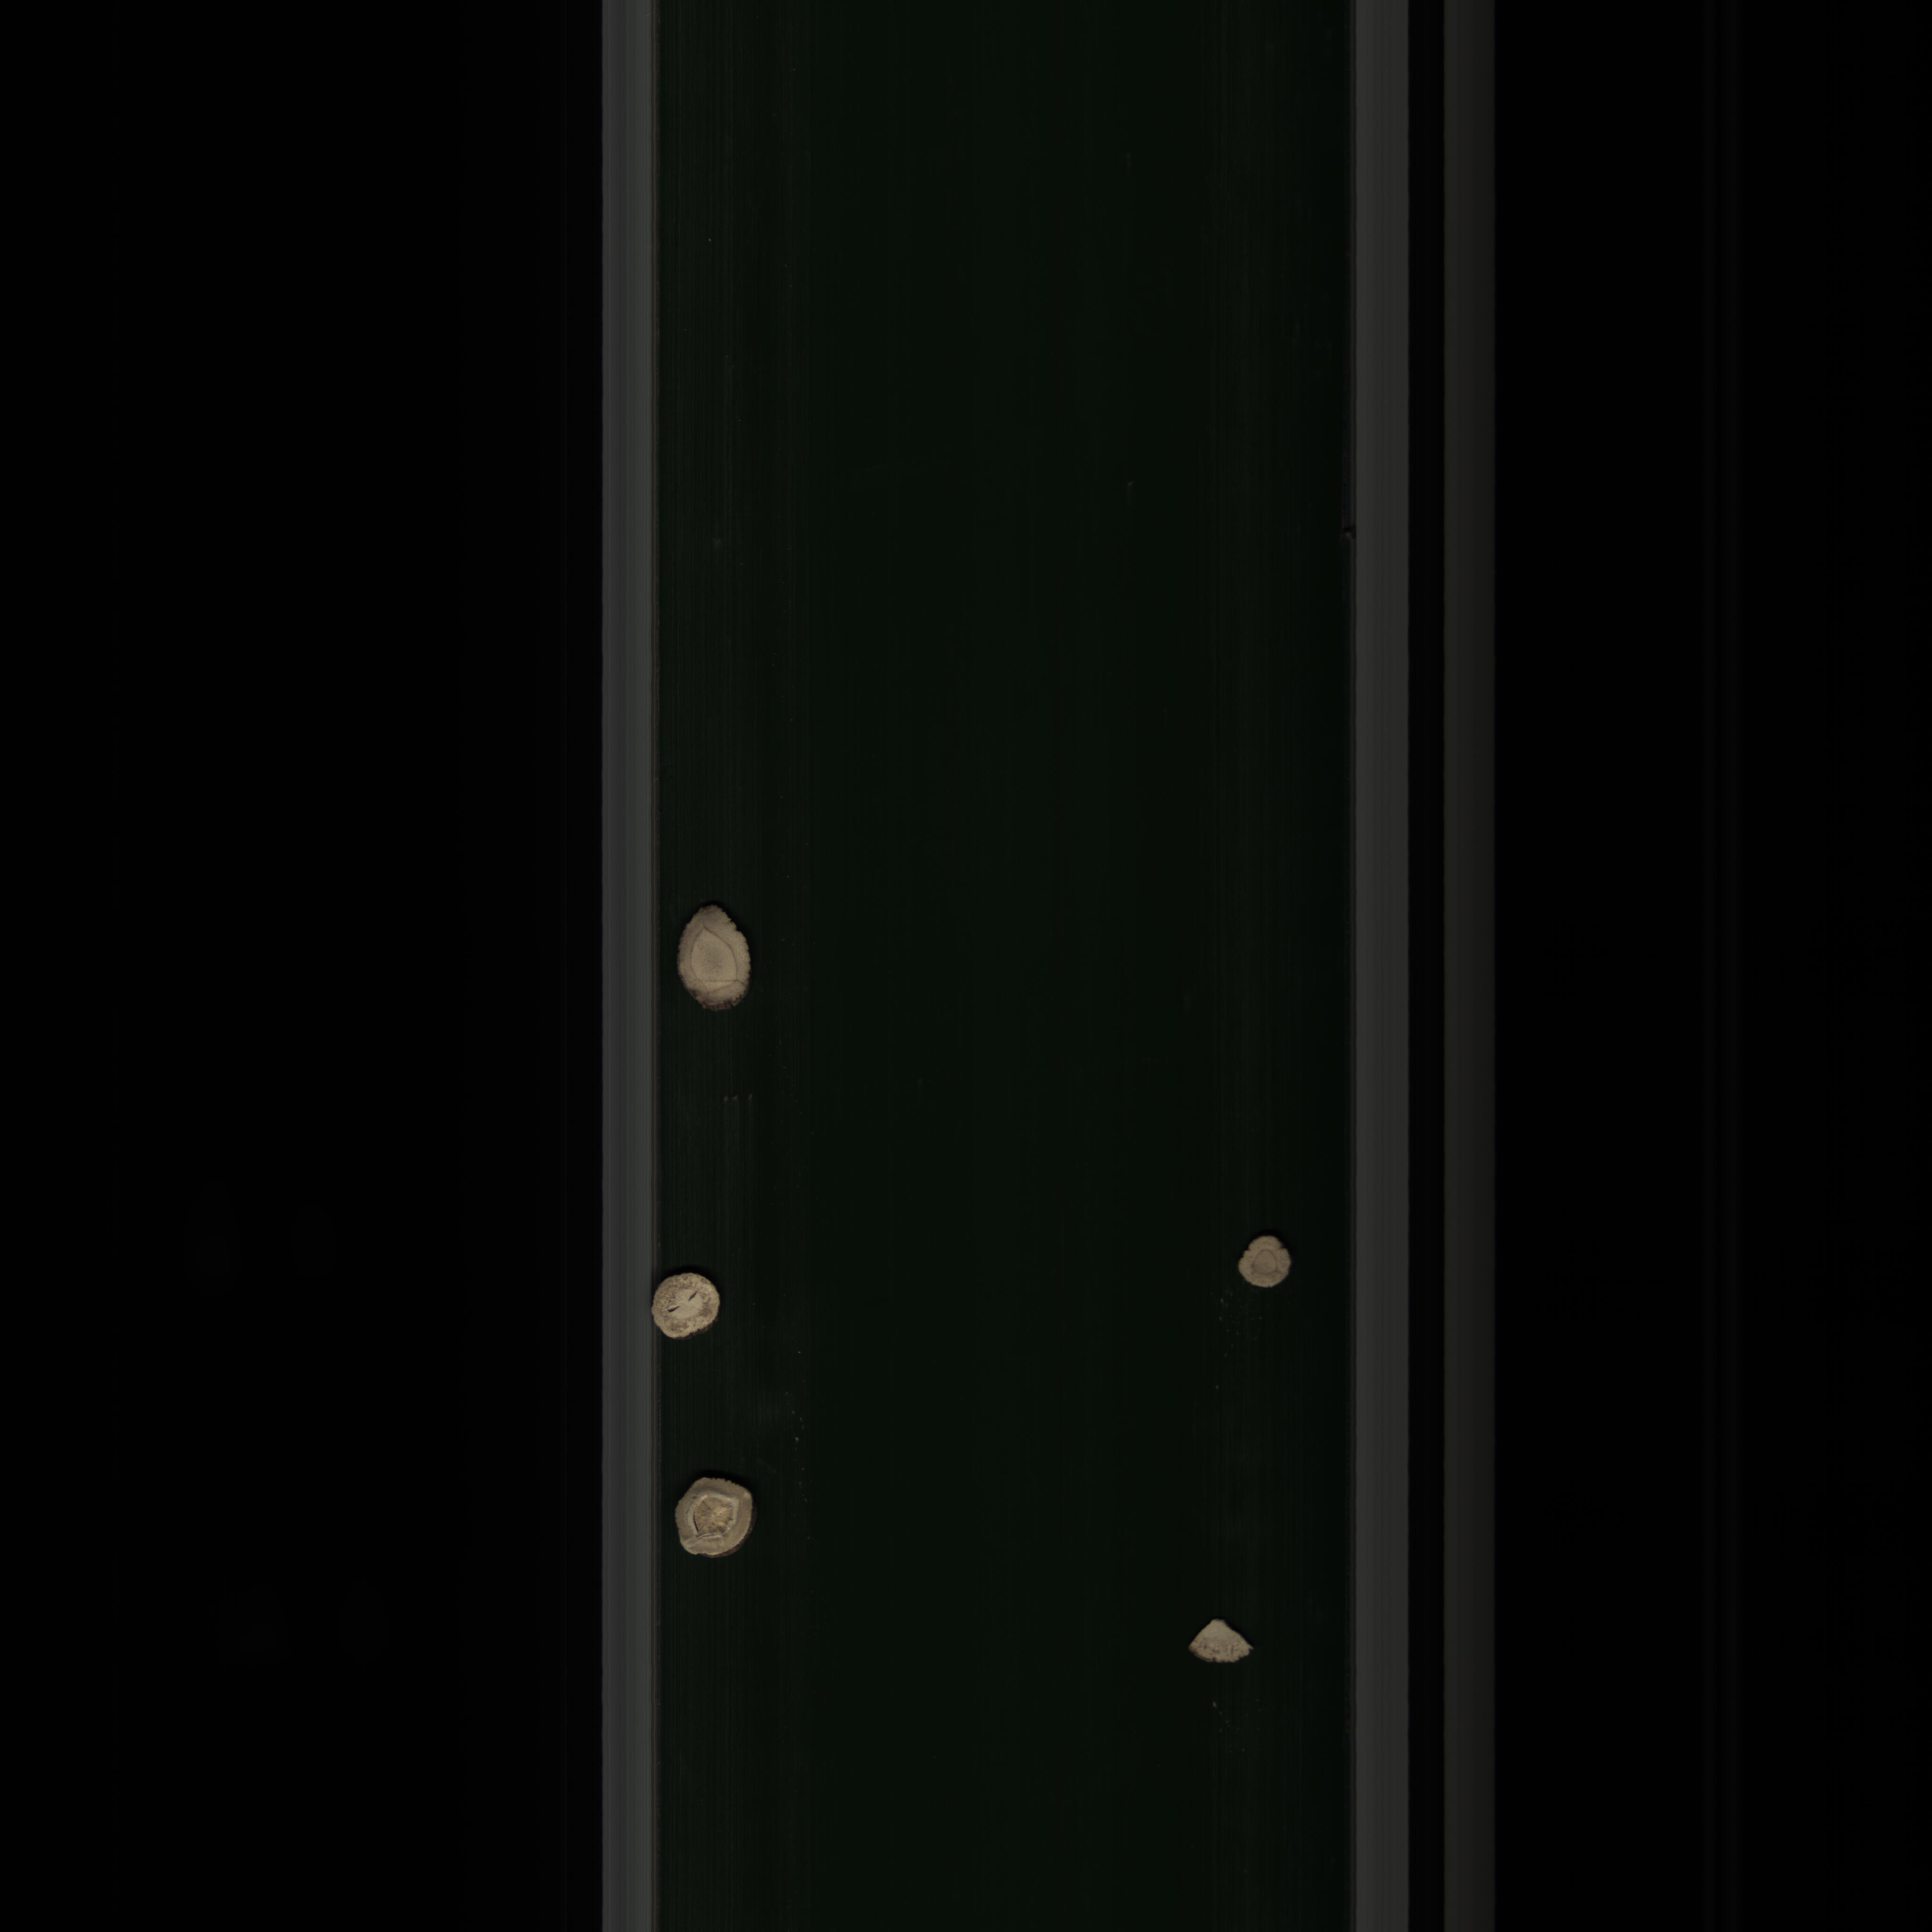debris: (1182, 1612, 1270, 1668)
hole: (655, 1267, 740, 1357)
